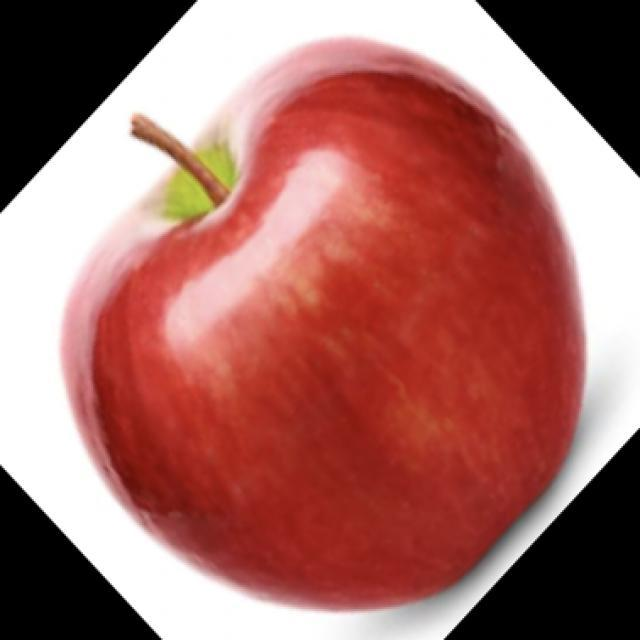Fresh Apple: (95, 41, 572, 582)
